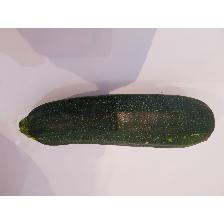Zucchini: (15, 91, 218, 153)
